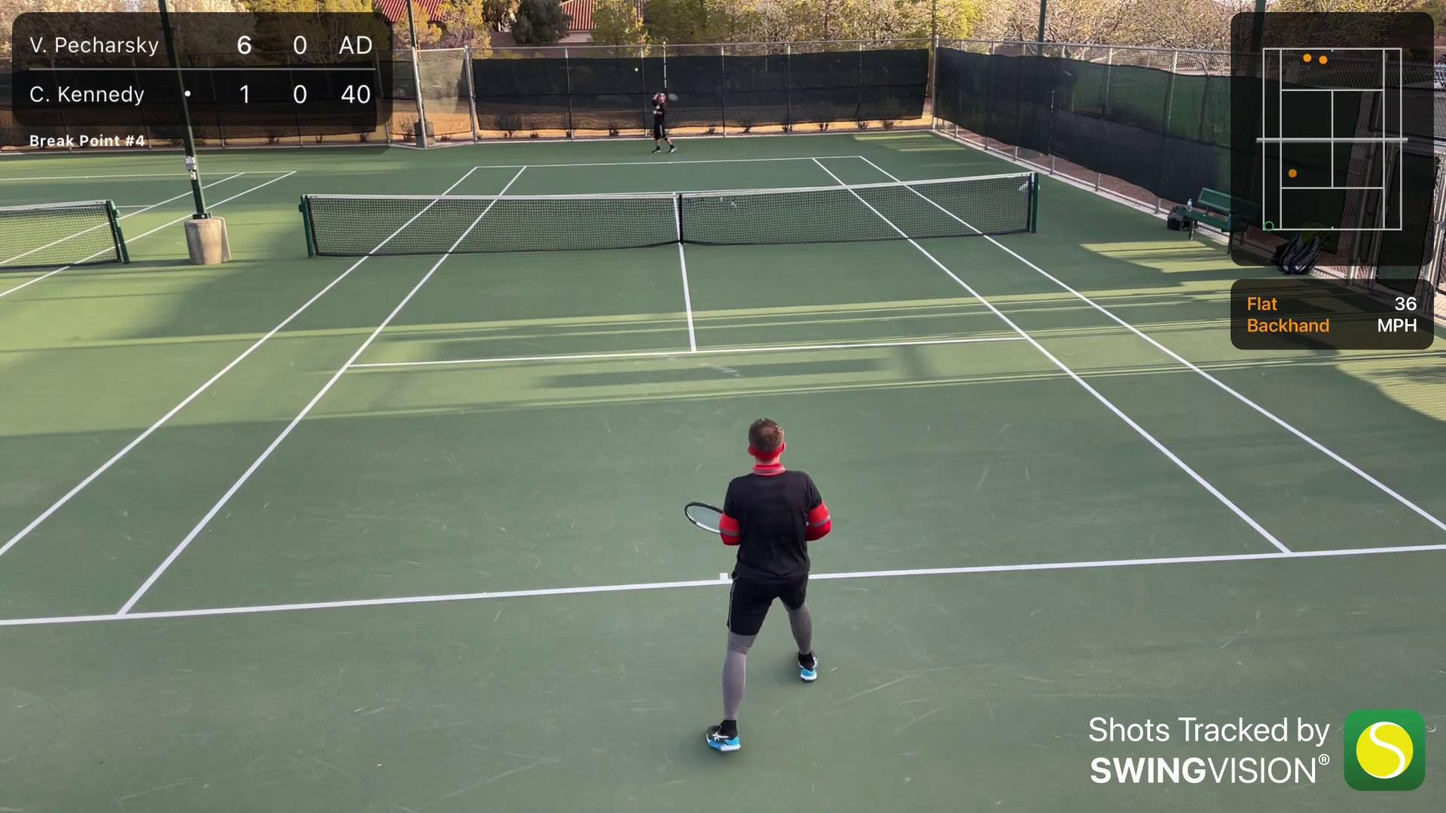ball: (634, 67, 639, 72)
